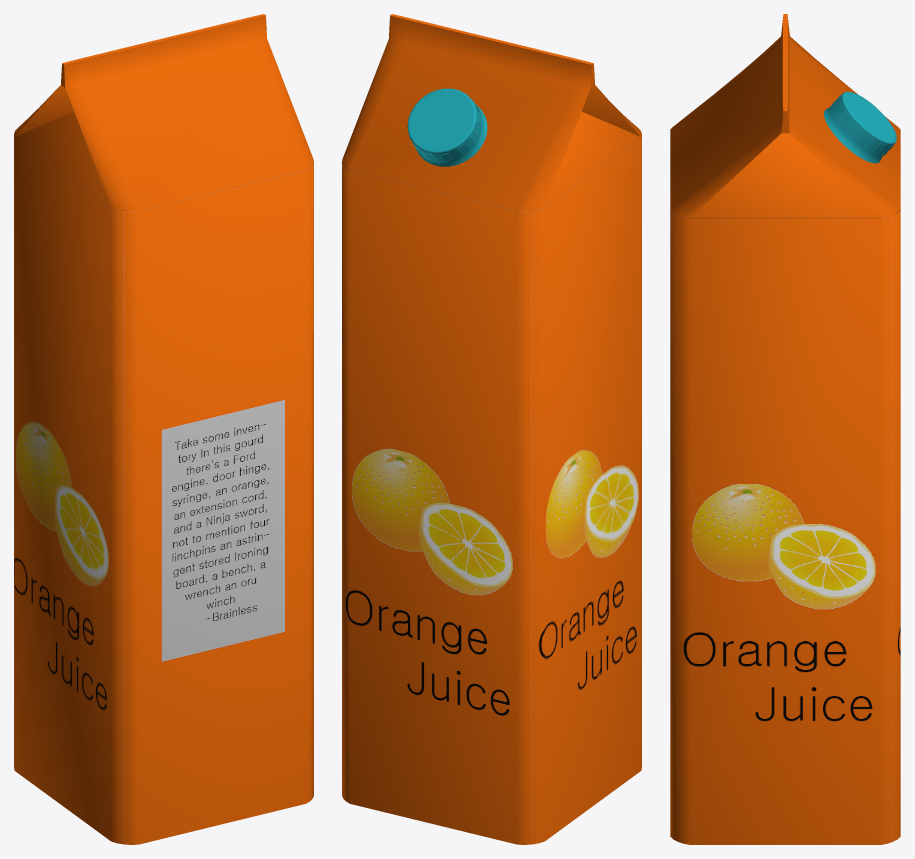
File: OrangeBox.FBX
The picture shows the model from 3 angles, left to right: view 1: azimuth 30°, elevation 25°; view 2: azimuth 150°, elevation 25°; view 3: azimuth 270°, elevation 25°; orthographic projection.
Visible parts, largest first — view 1: MilkBox_Medium; view 2: MilkBox_Medium; view 3: MilkBox_Medium.
Boxes of the visible parts, <box> form: MilkBox_Medium: <box>14,14,313,844</box>; MilkBox_Medium: <box>342,14,641,844</box>; MilkBox_Medium: <box>670,14,900,844</box>.
Bounding box in the file's own units: 5.46 × 19.17 × 5.46.
1 material, 1 textured.
